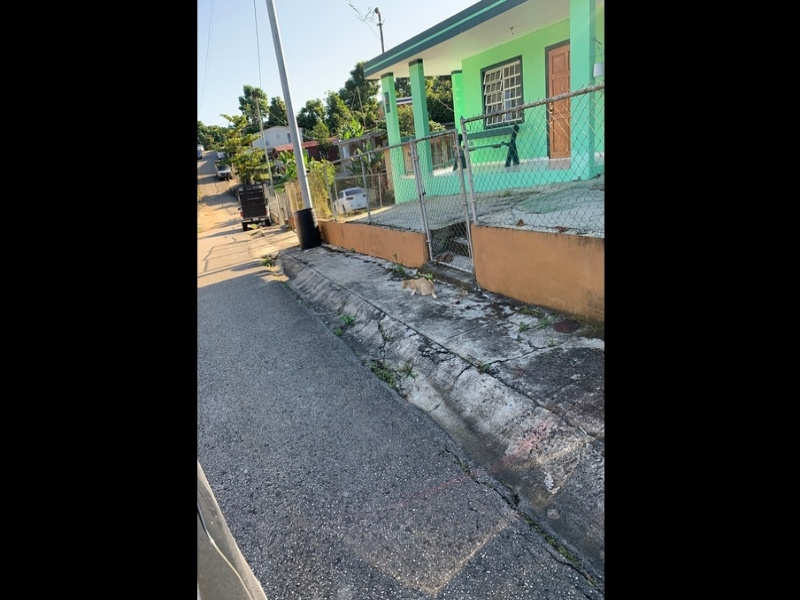cat: (399, 276, 439, 298)
